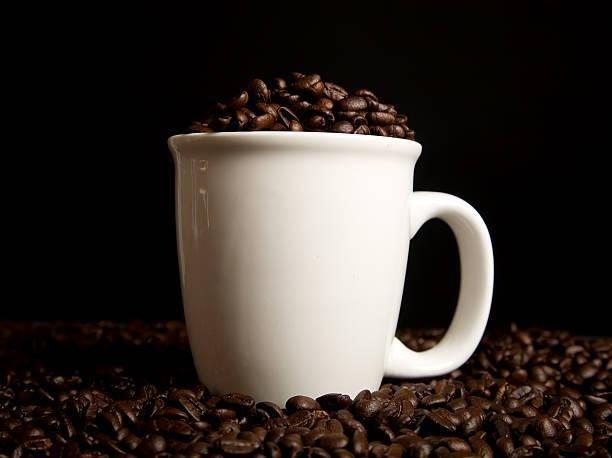cup-handle: (169, 129, 496, 417)
